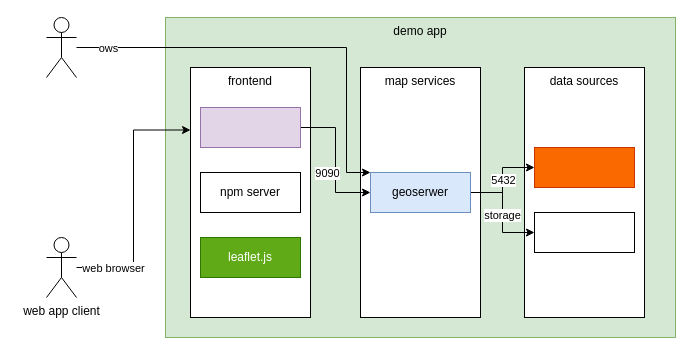
Image size: 693x355. Some labels were removed from this diagram. The shapes that lost their labels are listed below. From the top down, each one's centre as x and y in pixels, then its label:
At point 61,47: "gis system client".
At point 250,127: "react app".
At point 584,167: "postgis".
At point 584,232: "gpkg, fgb files".
